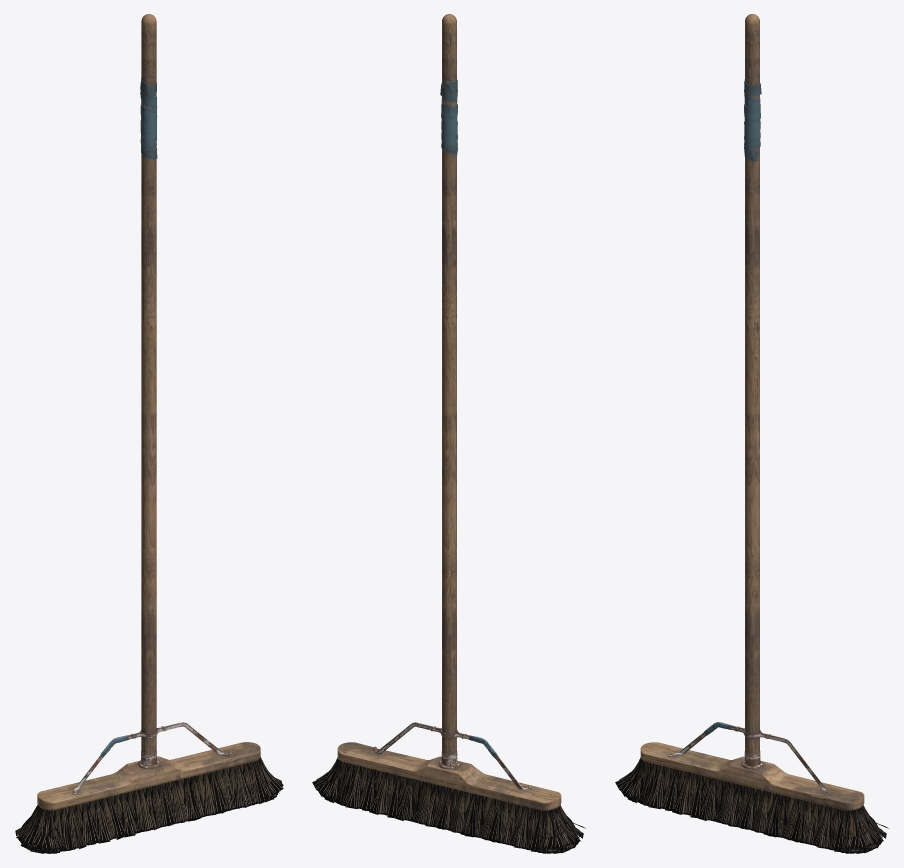
File: wooden_broom.glb
3 renders of one model, left to right at view 1: azimuth 30°, elevation 25°; view 2: azimuth 150°, elevation 25°; view 3: azimuth 330°, elevation 25°, orthographic.
Parts seen in each view (by area): view 1: wooden_broom_handle, wooden_broom_bristles, wooden_broom; view 2: wooden_broom_handle, wooden_broom_bristles, wooden_broom; view 3: wooden_broom_handle, wooden_broom_bristles, wooden_broom.
Boxes of the visible parts, left/top/right/bottom form: wooden_broom_handle: left=140, top=14, right=157, bottom=765; wooden_broom_bristles: left=15, top=757, right=283, bottom=853; wooden_broom: left=37, top=722, right=260, bottom=817; wooden_broom_handle: left=440, top=14, right=457, bottom=766; wooden_broom_bristles: left=312, top=757, right=585, bottom=853; wooden_broom: left=337, top=722, right=565, bottom=828; wooden_broom_handle: left=744, top=14, right=761, bottom=766; wooden_broom_bristles: left=615, top=757, right=888, bottom=853; wooden_broom: left=640, top=722, right=864, bottom=828.
Bounding box in the file's own units: 0.4902 × 1.45 × 0.1125.
Materials: 2 (2 with a texture image).
